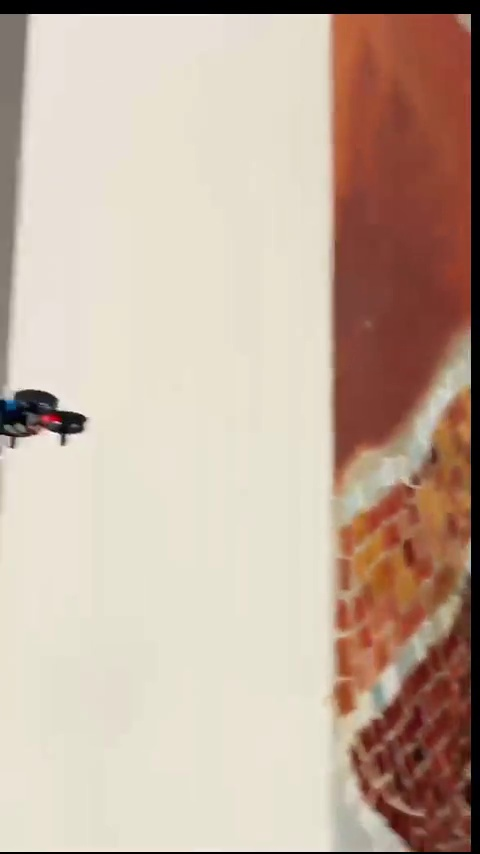drone: (0, 383, 92, 455)
